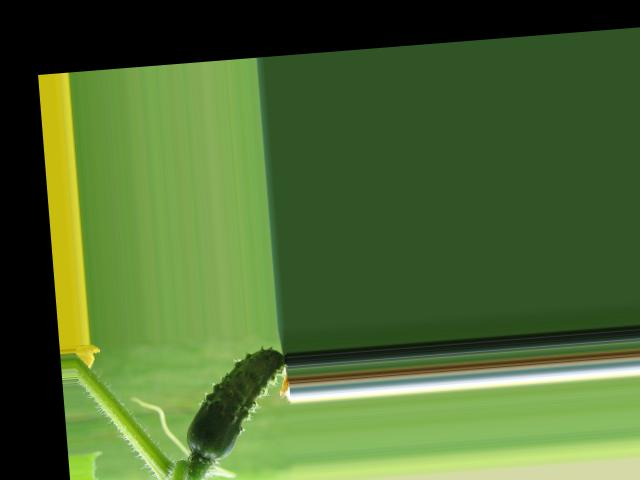cucumber: (178, 346, 291, 461)
